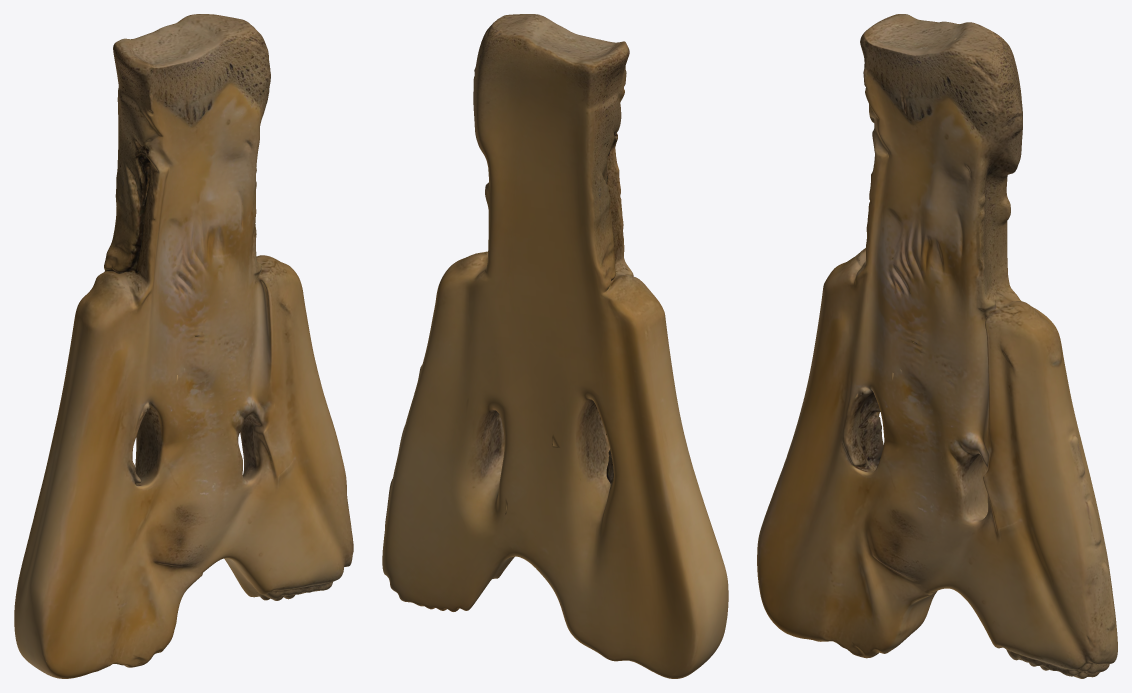
3 renders of one model, left to right at view 1: azimuth 30°, elevation 25°; view 2: azimuth 150°, elevation 25°; view 3: azimuth 330°, elevation 25°, orthographic. The views are drawn at different scales.
Parts seen in each view (by area): view 1: node_0; view 2: node_0; view 3: node_0.
Boxes of the visible parts, x1,y1,x2,y2 form: node_0: [14, 14, 353, 678]; node_0: [382, 14, 728, 678]; node_0: [757, 14, 1117, 678].
Bounding box in the file's own units: 0.6089 × 1.09 × 0.1237.
1 material, 1 textured.
